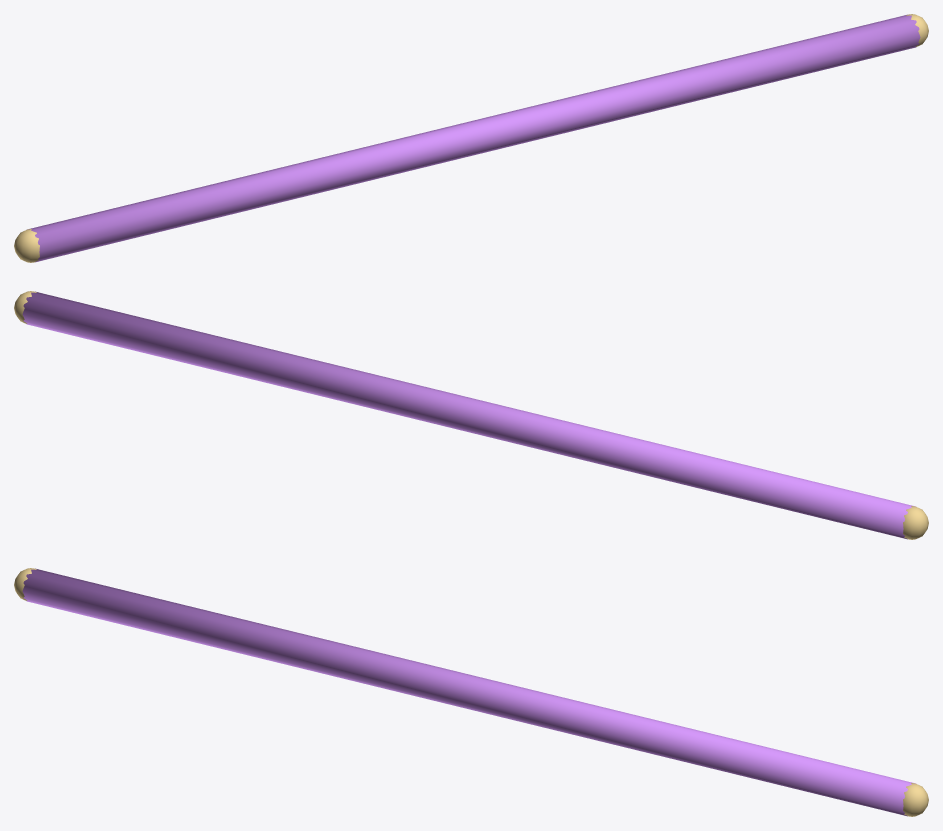
File: beam-BwAuBbej.glb
3 renders of one model, top to bottom at view 1: azimuth 30°, elevation 25°; view 2: azimuth 150°, elevation 25°; view 3: azimuth 330°, elevation 25°, orthographic.
Visible parts, largest first — view 1: R3D_beam_Body_0, R3D_beam_Tip_0; view 2: R3D_beam_Body_0, R3D_beam_Tip_0; view 3: R3D_beam_Body_0, R3D_beam_Tip_1.
Part boxes in pixels (left/top/right/bottom): R3D_beam_Body_0: left=27, top=14, right=920, bottom=262; R3D_beam_Tip_0: left=14, top=229, right=39, bottom=262; R3D_beam_Body_0: left=22, top=291, right=915, bottom=539; R3D_beam_Tip_0: left=903, top=506, right=928, bottom=539; R3D_beam_Body_0: left=22, top=568, right=915, bottom=816; R3D_beam_Tip_1: left=903, top=783, right=928, bottom=816.
Bounding box in the file's own units: 5.58 × 0.18 × 0.18.
